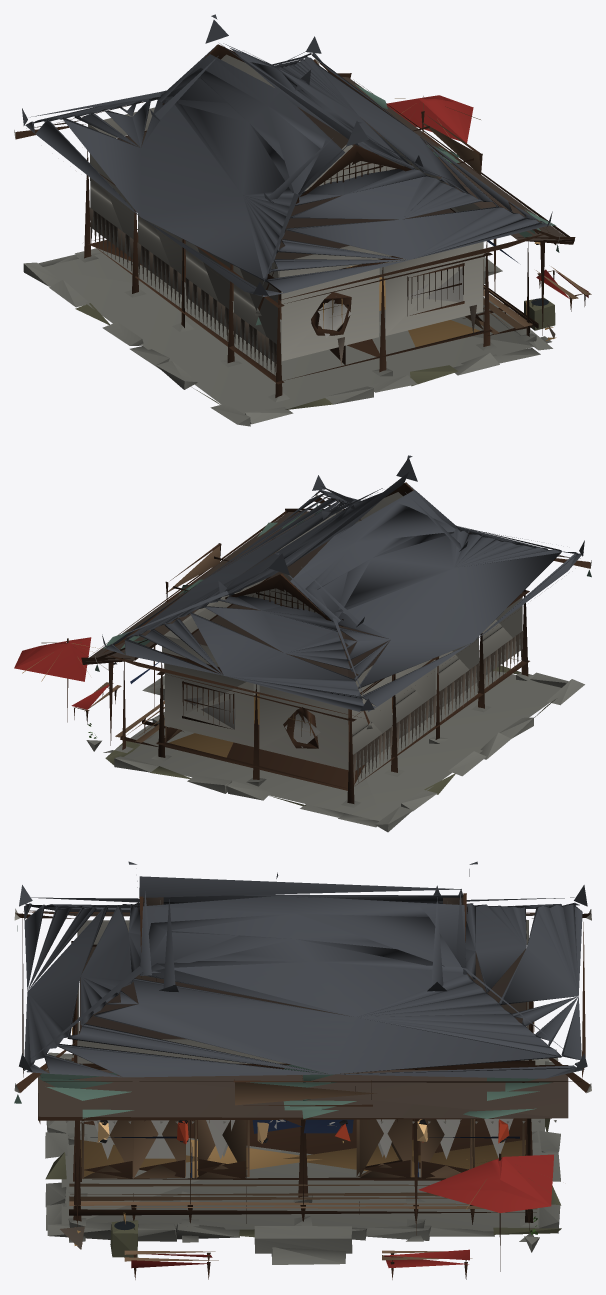
The model's file is SM_Minka_03.glb.
The picture shows the model from 3 angles, top to bottom: view 1: azimuth 30°, elevation 25°; view 2: azimuth 150°, elevation 25°; view 3: azimuth 270°, elevation 25°; orthographic projection. The views are drawn at different scales.
Visible parts, largest first — view 1: SM_Minka_03; view 2: SM_Minka_03; view 3: SM_Minka_03.
Boxes of the visible parts, bbox=[...] form: SM_Minka_03: bbox=[14, 14, 591, 426]; SM_Minka_03: bbox=[14, 455, 591, 832]; SM_Minka_03: bbox=[14, 861, 591, 1279].
Size of the model in its own units: 11.11 by 6.14 by 11.01.
